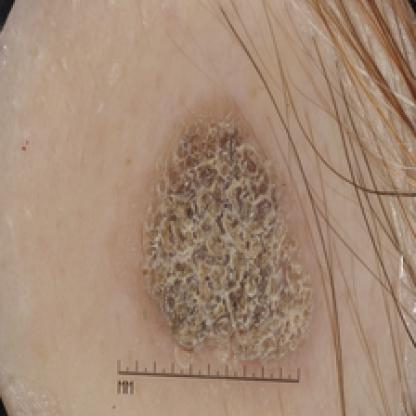malignant: (143, 108, 319, 353)
